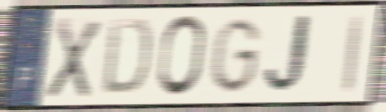D: (99, 16, 154, 98)
G: (206, 15, 264, 96)
I: (340, 12, 365, 97)
J: (262, 12, 318, 98)
O: (155, 12, 208, 100)
X: (43, 15, 104, 101)
